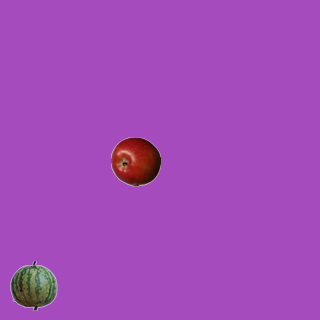Apple Braeburn: (110, 136, 160, 186)
Watermelon: (8, 260, 58, 310)
